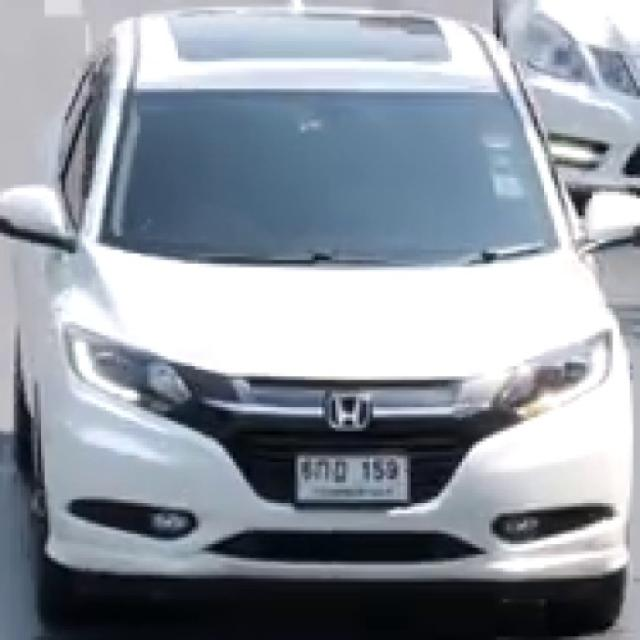plate: (296, 454, 414, 506)
